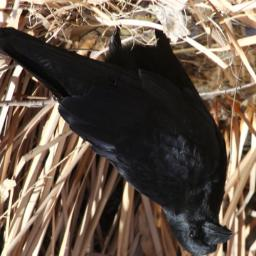Crow: (0, 25, 237, 256)
